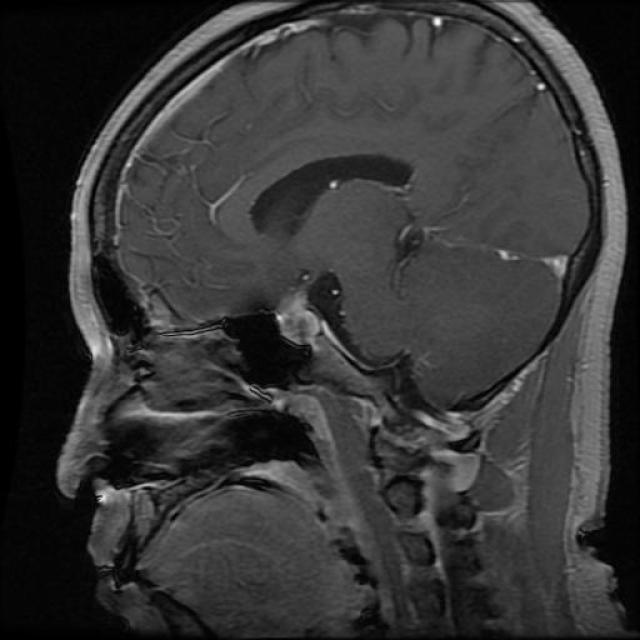pituitary: (271, 282, 325, 357)
